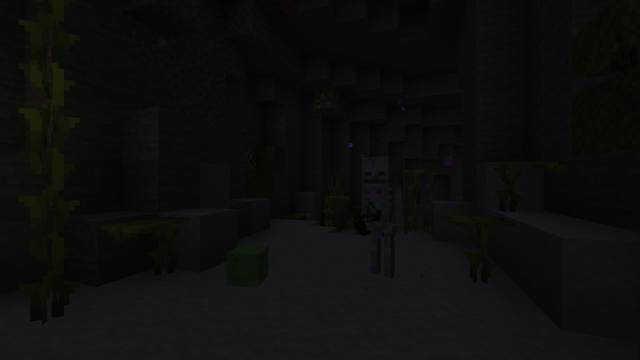slimes: (224, 243, 270, 289)
squelettes: (361, 156, 400, 283)
